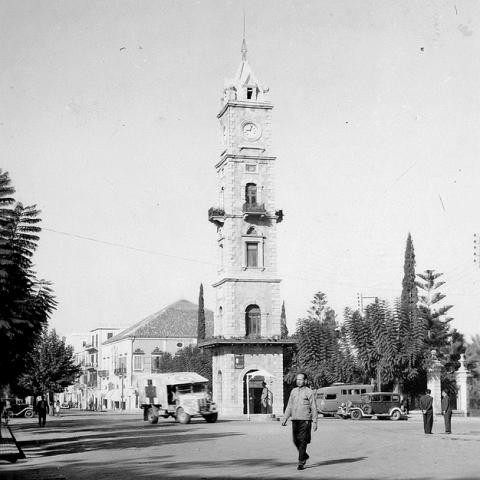car: (1, 399, 34, 418)
truck: (134, 372, 220, 426), (339, 392, 404, 421)
